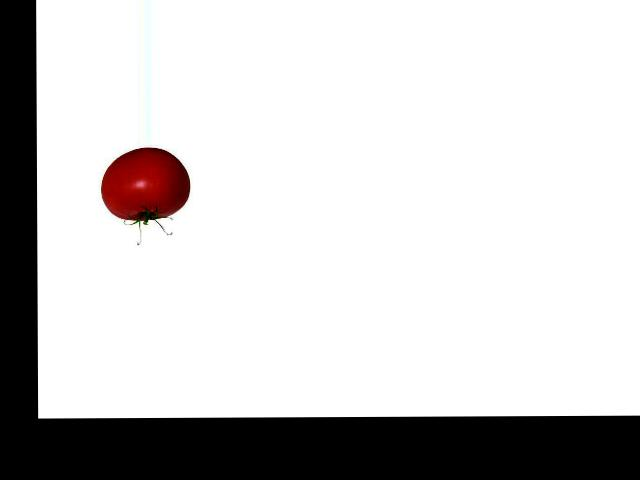tomato: (99, 147, 189, 221)
